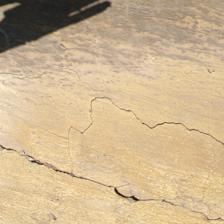Crack: (84, 20, 204, 204), (130, 177, 190, 224)
